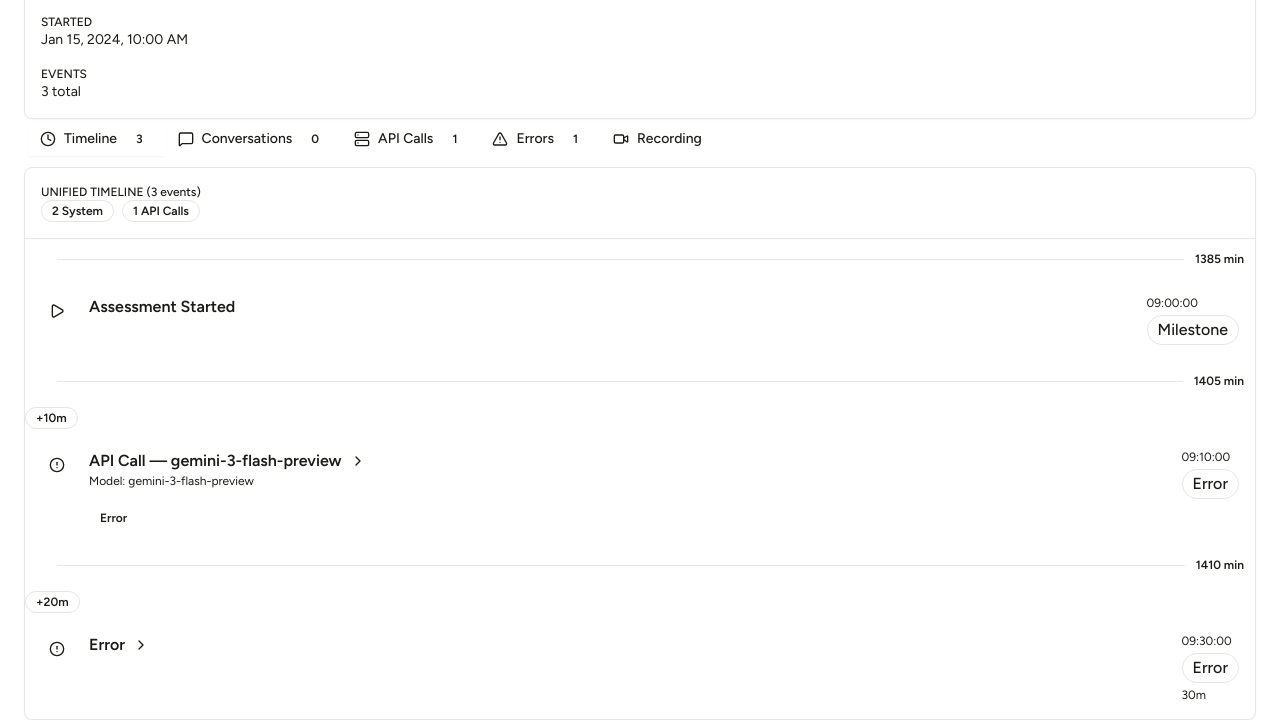
Test: AssessmentTimelineClient › Error Handling › displays error message in expanded view
The image size is (1280, 720).
(page scrolled)
Click the element that starts with "API Call — gemini-3-flash-preview" at {"x": 215, "y": 460}, box [25,433,1255,545]
(page scrolled)
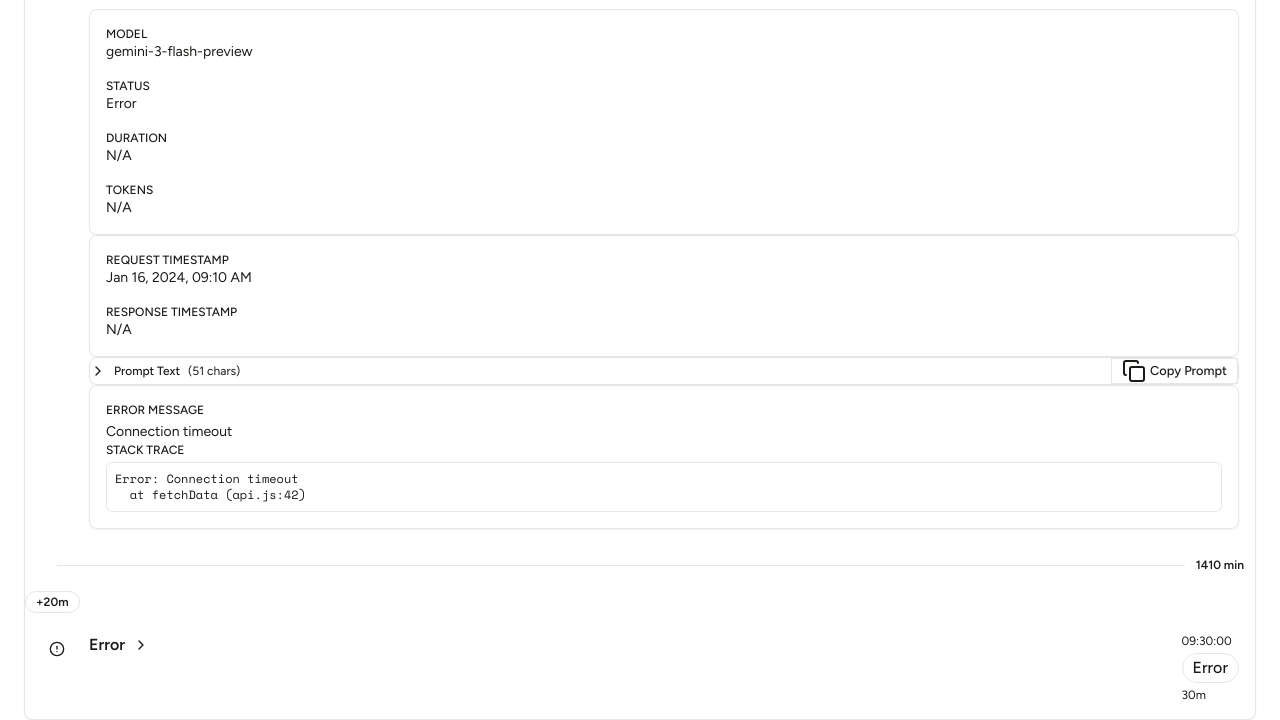
Now the text "Connection timeout" is shown, box [106,423,232,440]
